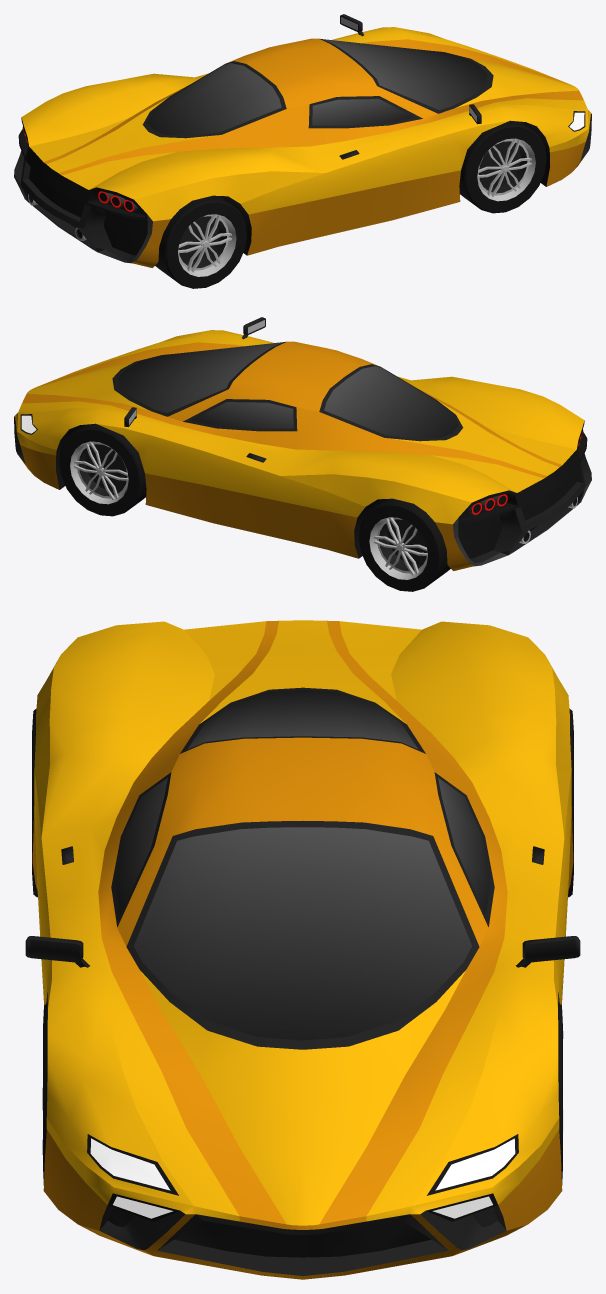
The model's file is Car_191.glb.
3 renders of one model, top to bottom at view 1: azimuth 30°, elevation 25°; view 2: azimuth 150°, elevation 25°; view 3: azimuth 270°, elevation 25°, orthographic. The views are drawn at different scales.
Parts seen in each view (by area): view 1: Car_191, wheel_3_Car_191_Wheel_2R, wheel_1_Car_191_Wheel_1R; view 2: Car_191, wheel_2_Car_191_Wheel_2L, wheel_0_Car_191_Wheel_1L; view 3: Car_191.
Part boxes in pixels (box(x1,y1,x2,y2)): Car_191: box(14, 14, 591, 267); wheel_3_Car_191_Wheel_2R: box(155, 195, 247, 288); wheel_1_Car_191_Wheel_1R: box(459, 120, 546, 213); Car_191: box(14, 317, 591, 570); wheel_2_Car_191_Wheel_2L: box(358, 498, 450, 591); wheel_0_Car_191_Wheel_1L: box(59, 423, 146, 516); Car_191: box(25, 620, 580, 1279).
Size of the model in its own units: 4.54 by 1.13 by 2.05.
Materials: 2 (2 with a texture image).
